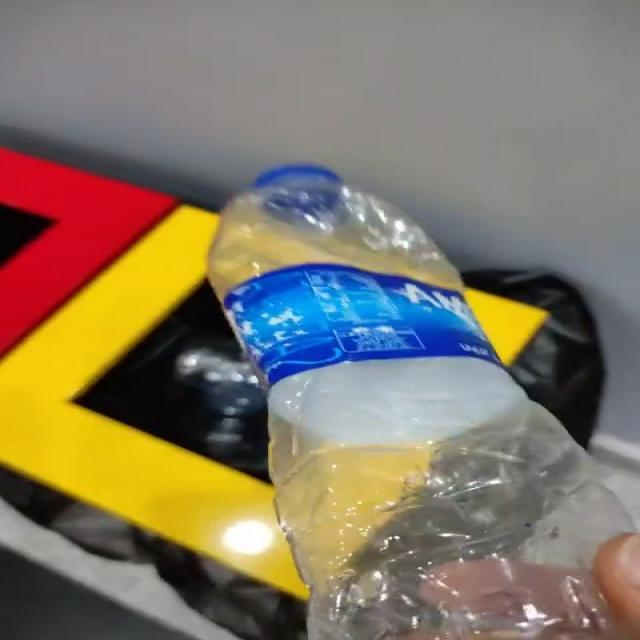Plastic: (207, 164, 625, 640)
